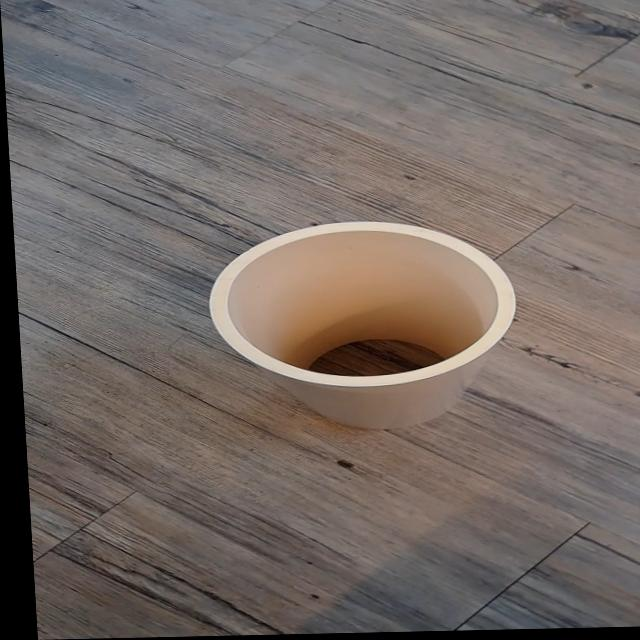CORAL: (156, 200, 557, 450)
